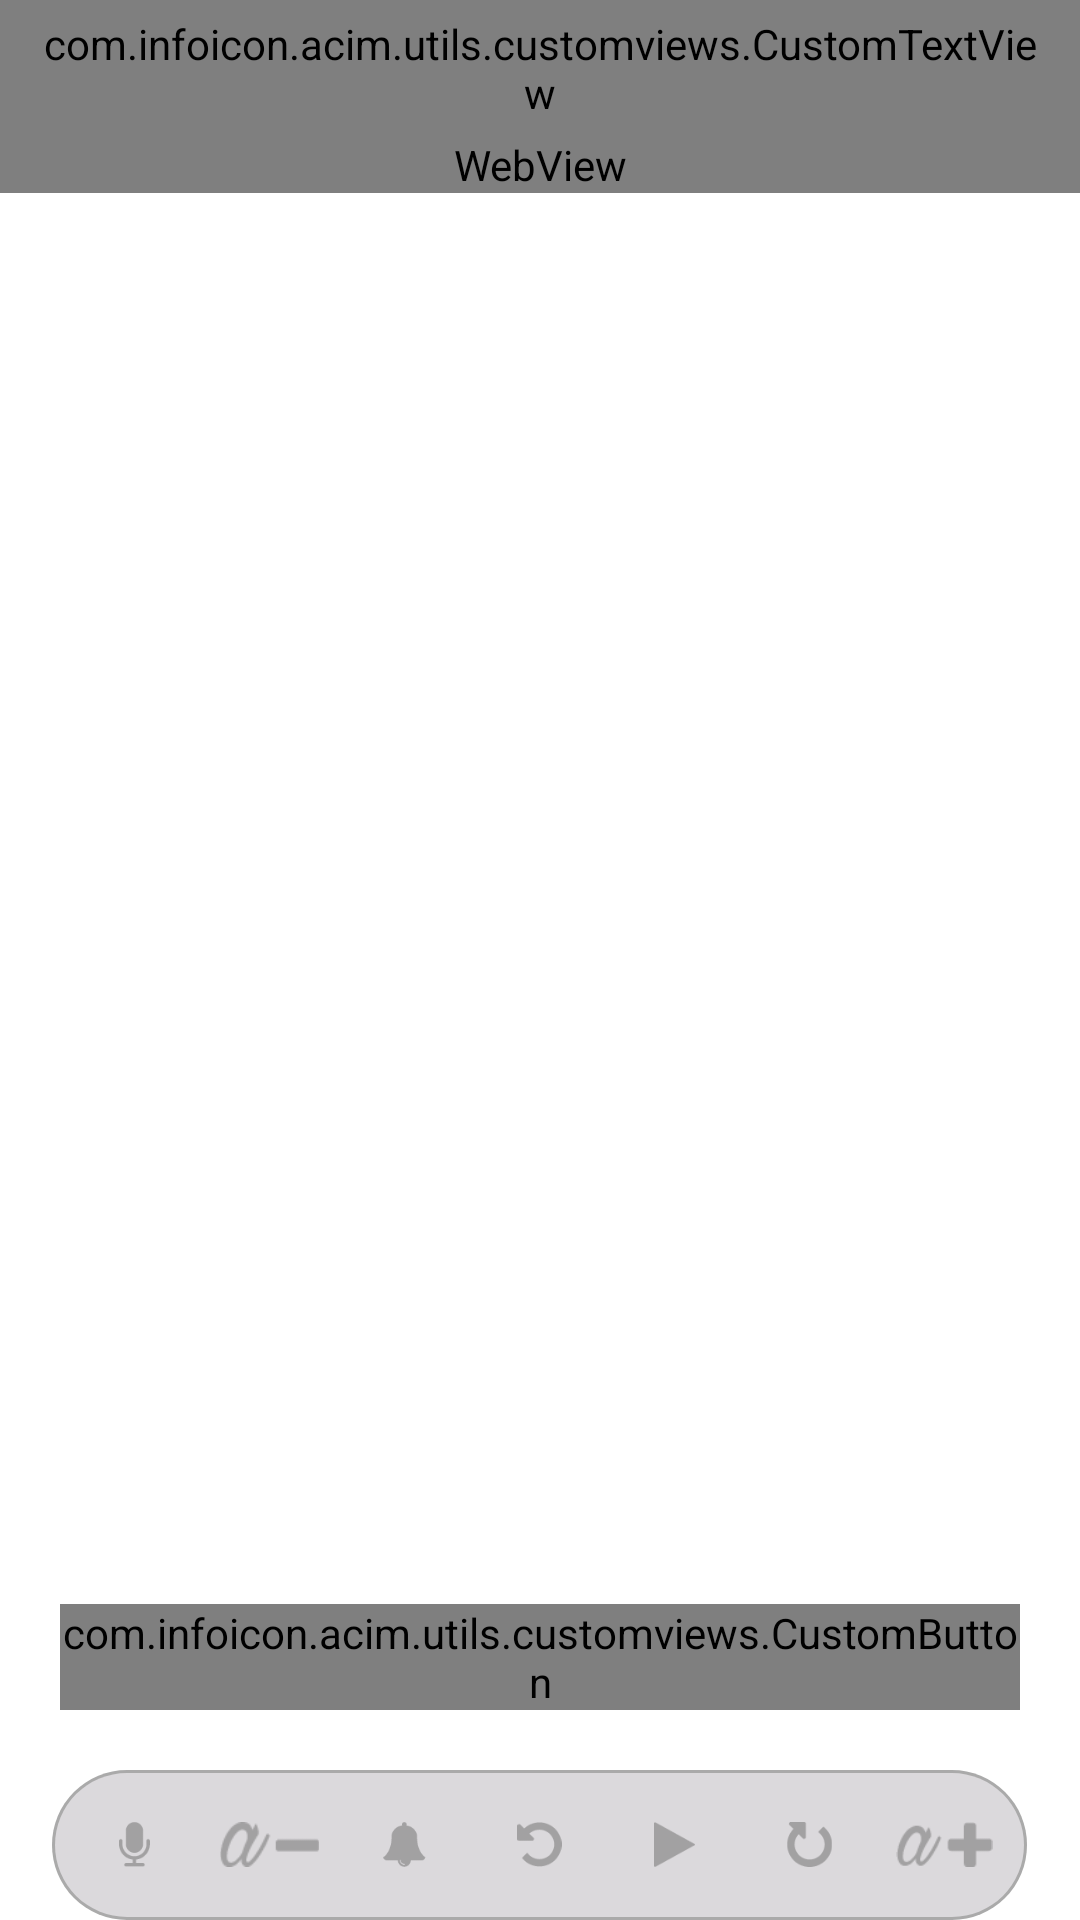

Icon click points for this 1080 × 1920 phone screenshot, format point (x, y):
backward: point (539, 1844)
decrease: point (270, 1844)
forward: point (809, 1844)
increase: point (945, 1845)
mike: point (134, 1844)
play: point (674, 1844)
reminder: point (404, 1844)
